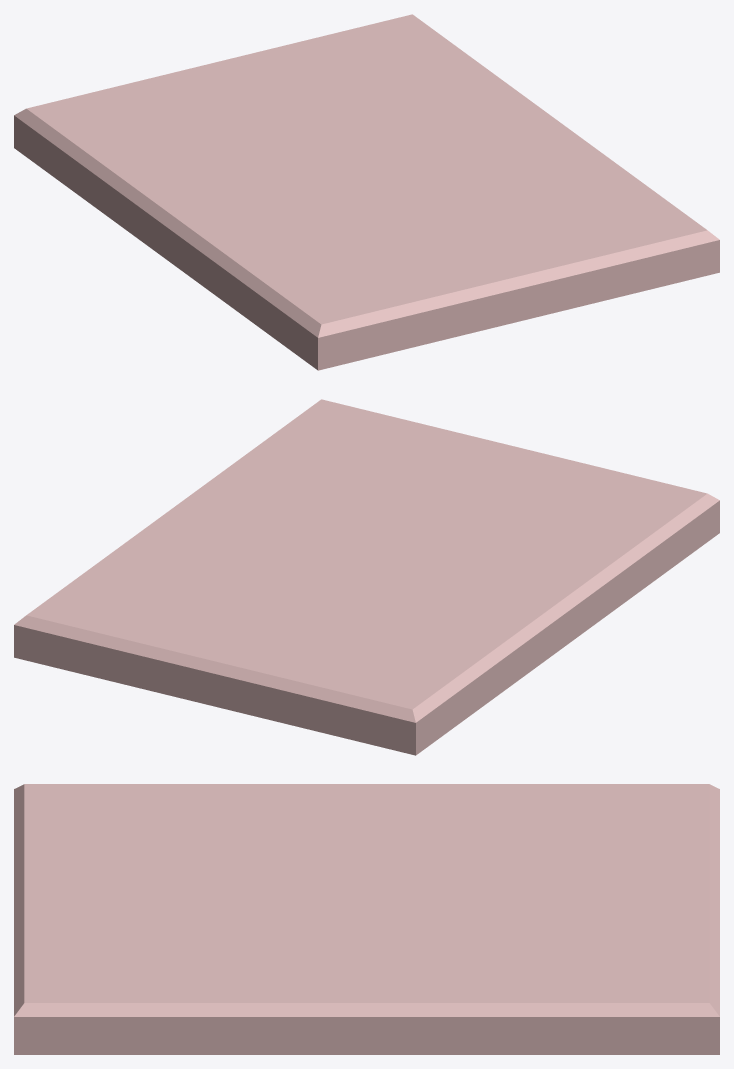
File: Switch_Trigger.fbx
The picture shows the model from 3 angles, top to bottom: view 1: azimuth 30°, elevation 25°; view 2: azimuth 150°, elevation 25°; view 3: azimuth 270°, elevation 25°; orthographic projection. The views are drawn at different scales.
Parts seen in each view (by area): view 1: Switch_Trigger; view 2: Switch_Trigger; view 3: Switch_Trigger.
Part boxes in pixels (<box>): Switch_Trigger: <box>14,14,719,370</box>; Switch_Trigger: <box>14,399,719,755</box>; Switch_Trigger: <box>14,784,719,1054</box>.
Bounding box in the file's own units: 1.93 × 0.188 × 2.53.
